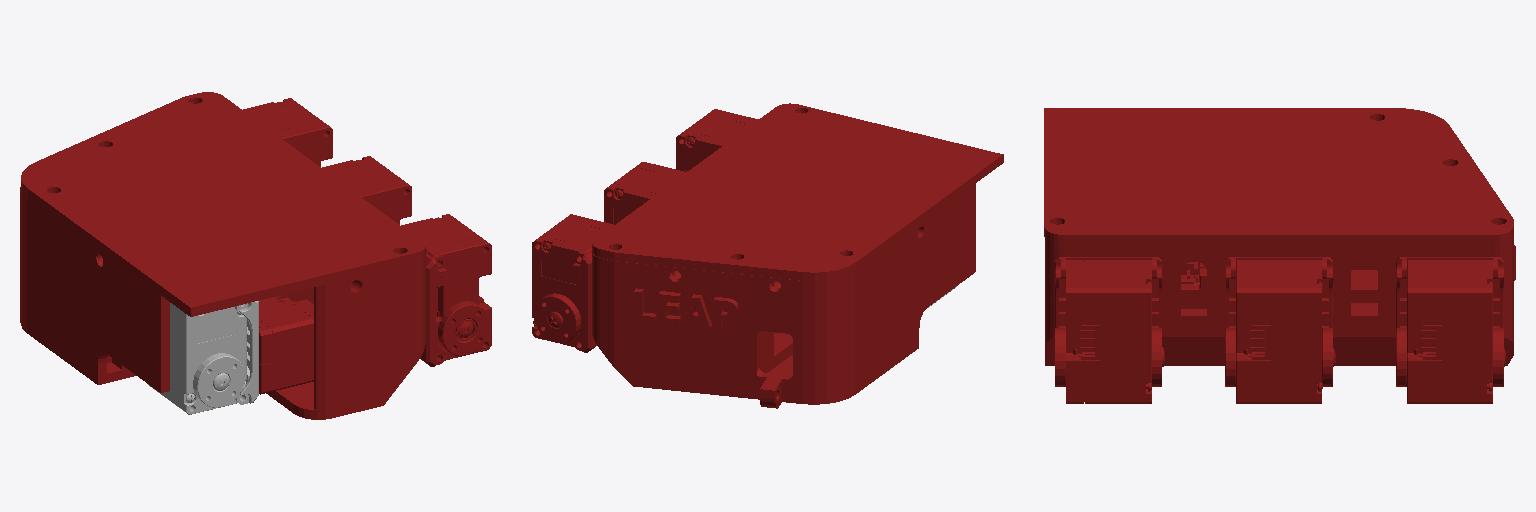
URDF robot description (onshape):
<robot name="onshape">
<link name="palm_lower_left">
<visual>
<origin xyz="-0.095574224938392599027 -0.11704001150113751972 0.02077960705260517571" rpy="1.57079632679489678 1.1239611599647231752e-28 3.1415926535897908956" />
<geometry>
<mesh filename="meshes_obj/palm_lower_left.obj"/>
</geometry>
<material name="palm_lower_left_material">
<color rgba="0.60392156862745094426 0.14901960784313725283 0.14901960784313725283 1.0"/>
</material>
</visual>
<collision>
<origin xyz="-0.095574224938392599027 -0.11704001150113751972 0.02077960705260517571" rpy="1.57079632679489678 1.1239611599647231752e-28 3.1415926535897908956" />
<geometry>
<mesh filename="meshes_obj/palm_lower_left.obj"/>
</geometry>
</collision>
<inertial>
<origin xyz="0 0 0" rpy="0 0 0"/>
<mass value="0.235" />
<inertia ixx="0.000351007" ixy="-0.000001393"  ixz="-0.000000694" iyy="0.000523205" iyz="-0.000003085" izz="0.000256996" />
</inertial>
</link>

<link name="mcp_joint">
<visual>
<origin xyz="0.008406902261174501248 0.0077662438597169980437 0.014657354985032899908" rpy="1.6375789613220999807e-15 -1.0045650589924324925e-30 -1.7121057196142940206e-44" />
<geometry>
<mesh filename="meshes_obj/mcp_joint.obj"/>
</geometry>
<material name="mcp_joint_material">
<color rgba="0.86666666666666669627 0.86666666666666669627 0.050980392156862744391 1.0"/>
</material>
</visual>
<collision>
<origin xyz="0.008406902261174501248 0.0077662438597169980437 0.014657354985032899908" rpy="1.6375789613220999807e-15 -1.0045650589924324925e-30 -1.7121057196142940206e-44" />
<geometry>
<mesh filename="meshes_obj/mcp_joint.obj"/>
</geometry>
</collision>
<inertial>
<origin xyz="0 0 0" rpy="0 0 0"/>
<mass value="0.044" />
<inertia ixx="0.000011499" ixy="0.000003049"  ixz="0.000000121" iyy="0.000007796" iyz="0.000000112" izz="0.000014759" />
</inertial>
</link>

<link name="pip">
<visual>
<origin xyz="0.0096433630922713314826 0.00029999999999999471534 0.00078403401041737472155" rpy="-1.570796326794896558 -1.570796326794896336 0" />
<geometry>
<mesh filename="meshes_obj/pip.obj"/>
</geometry>
<material name="pip_material">
<color rgba="0.74901960784313725839 0.74901960784313725839 0.74901960784313725839 1.0"/>
</material>
</visual>
<collision>
<origin xyz="0.0096433630922713314826 0.00029999999999999471534 0.00078403401041737472155" rpy="-1.570796326794896558 -1.570796326794896336 0" />
<geometry>
<mesh filename="meshes_obj/pip.obj"/>
</geometry>
</collision>
<inertial>
<origin xyz="0 0 0" rpy="0 0 0"/>
<mass value="0.032" />
<inertia ixx="0.000004798" ixy="0.000000012"  ixz="0.000000004" iyy="0.000002862" iyz="0.000000011" izz="0.000004234" />
</inertial>
</link>

<link name="dip">
<visual>
<origin xyz="0.021133352895225002849 -0.0084321191467048722812 0.0097850881620952234741" rpy="-3.141592653589793116 4.5075111242164408299e-32 4.4395481053923607589e-32" />
<geometry>
<mesh filename="meshes_obj/dip.obj"/>
</geometry>
<material name="dip_material">
<color rgba="0.86666666666666669627 0.86666666666666669627 0.050980392156862744391 1.0"/>
</material>
</visual>
<collision>
<origin xyz="0.021133352895225002849 -0.0084321191467048722812 0.0097850881620952234741" rpy="-3.141592653589793116 4.5075111242164408299e-32 4.4395481053923607589e-32" />
<geometry>
<mesh filename="meshes_obj/dip.obj"/>
</geometry>
</collision>
<inertial>
<origin xyz="0 0 0" rpy="0 0 0"/>
<mass value="0.037" />
<inertia ixx="0.000005542" ixy="-0.000000607"  ixz="-0.000000017" iyy="0.000005727" iyz="-0.000000023" izz="0.000006682" />
</inertial>
</link>

<link name="fingertip">
<visual>
<origin xyz="0.013286424108533503169 -0.00611423838654200167 0.014499999999999513278" rpy="3.141592653589793116 1.1993117970061734707e-33 4.4395481053923607589e-32" />
<geometry>
<mesh filename="meshes_obj/fingertip.obj"/>
</geometry>
<material name="fingertip_material">
<color rgba="0.86666666666666669627 0.86666666666666669627 0.050980392156862744391 1.0"/>
</material>
</visual>
<collision name="fingertip_collision_FROGGERCOL">
<origin xyz="0.013286424108533503169 -0.00611423838654200167 0.014499999999999513278" rpy="3.141592653589793116 1.1993117970061734707e-33 4.4395481053923607589e-32" />
<geometry>
<mesh filename="meshes_obj/fingertip.obj"/>
</geometry>
</collision>
<inertial>
<origin xyz="0 0 0" rpy="0 0 0"/>
<mass value="0.016" />
<inertia ixx="0.000003368" ixy="0.000000115"  ixz="0" iyy="0.000001556" iyz="0" izz="0.000002863" />
</inertial>
</link>

<joint name="0" type="revolute">
<origin xyz="-0.012200000000000005979 0.038100000000000001921 0.014499999999999985123" rpy="-1.57079632679489678 2.8029314871654157891e-15 1.570796326794896336" />
<parent link="mcp_joint" />
<child link="pip" />
<axis xyz="0 0 -1"/>
<limit effort="0.95" velocity="8.48" lower = "-1.047" upper = "1.047"/>
<joint_properties friction="0.0"/>
</joint>

<joint name="1" type="revolute">
<origin xyz="-0.082574224938392518092 -0.085740011501137525229 0.0078008885838987494094" rpy="1.5707963267948987784 1.570796326794896558 0" />
<parent link="palm_lower_left" />
<child link="mcp_joint" />
<axis xyz="0 0 -1"/>
<limit effort="0.95" velocity="8.48" lower = "-0.314" upper = "2.23"/>
<joint_properties friction="0.0"/>
</joint>

<joint name="2" type="revolute">
<origin xyz="0.014999999999999961281 0.014299999999999993272 -0.013000000000000025424" rpy="1.5707963267948958919 -1.570796326794896336 0" />
<parent link="pip" />
<child link="dip" />
<axis xyz="0 0 -1"/>
<limit effort="0.95" velocity="8.48" lower = "-0.506" upper = "1.885"/>  
<joint_properties friction="0.0"/>
</joint>

<joint name="3" type="revolute">
<origin xyz="-4.0880582469551840497e-09 -0.03610000421036734658 0.0002000000000000612399" rpy="4.5935029425113685044e-17 -2.8730071914463794583e-16 4.4395481053923607589e-32" />
<parent link="dip" />
<child link="fingertip" />
<axis xyz="0 0 -1"/>
<limit effort="0.95" velocity="8.48" lower = "-0.366" upper = "2.042"/>   
<joint_properties friction="0.0"/>
</joint>

<link name="mcp_joint_2">
<visual>
<origin xyz="0.008406902261174501248 0.0077662438597169841659 0.014657354985032906847" rpy="1.6375789613220997835e-15 -1.0045650589925207743e-30 -1.2404717968013979433e-44" />
<geometry>
<mesh filename="meshes_obj/mcp_joint.obj"/>
</geometry>
<material name="mcp_joint_material">
<color rgba="0.86666666666666669627 0.86666666666666669627 0.050980392156862744391 1.0"/>
</material>
</visual>
<collision>
<origin xyz="0.008406902261174501248 0.0077662438597169841659 0.014657354985032906847" rpy="1.6375789613220997835e-15 -1.0045650589925207743e-30 -1.2404717968013979433e-44" />
<geometry>
<mesh filename="meshes_obj/mcp_joint.obj"/>
</geometry>
</collision>
<inertial>
<origin xyz="0 0 0" rpy="0 0 0"/>
<mass value="0.044" />
<inertia ixx="0.000011499" ixy="0.000003049"  ixz="0.000000121" iyy="0.000007796" iyz="0.000000112" izz="0.000014759" />
</inertial>
</link>

<link name="pip_2">
<visual>
<origin xyz="0.0096433630922713314826 0.00029999999999998777644 0.00078403401041737472155" rpy="-1.570796326794896558 -1.570796326794896336 0" />
<geometry>
<mesh filename="meshes_obj/pip.obj"/>
</geometry>
<material name="pip_material">
<color rgba="0.74901960784313725839 0.74901960784313725839 0.74901960784313725839 1.0"/>
</material>
</visual>
<collision>
<origin xyz="0.0096433630922713314826 0.00029999999999998777644 0.00078403401041737472155" rpy="-1.570796326794896558 -1.570796326794896336 0" />
<geometry>
<mesh filename="meshes_obj/pip.obj"/>
</geometry>
</collision>
<inertial>
<origin xyz="0 0 0" rpy="0 0 0"/>
<mass value="0.032" />
<inertia ixx="0.000004798" ixy="0.000000012"  ixz="0.000000004" iyy="0.000002862" iyz="0.000000011" izz="0.000004234" />
</inertial>
</link>

<link name="dip_2">
<visual>
<origin xyz="0.021133352895225002849 -0.0084321191467048722812 0.0097850881620952373519" rpy="-3.141592653589793116 2.1146933785271955805e-32 1.4408183216511868558e-31" />
<geometry>
<mesh filename="meshes_obj/dip.obj"/>
</geometry>
<material name="dip_material">
<color rgba="0.86666666666666669627 0.86666666666666669627 0.050980392156862744391 1.0"/>
</material>
</visual>
<collision>
<origin xyz="0.021133352895225002849 -0.0084321191467048722812 0.0097850881620952373519" rpy="-3.141592653589793116 2.1146933785271955805e-32 1.4408183216511868558e-31" />
<geometry>
<mesh filename="meshes_obj/dip.obj"/>
</geometry>
</collision>
<inertial>
<origin xyz="0 0 0" rpy="0 0 0"/>
<mass value="0.037" />
<inertia ixx="0.000005542" ixy="-0.000000607"  ixz="-0.000000017" iyy="0.000005727" iyz="-0.000000023" izz="0.000006682" />
</inertial>
</link>

<link name="fingertip_2">
<visual>
<origin xyz="0.013286424108533503169 -0.0061142383865419982006 0.014499999999999492462" rpy="3.141592653589793116 -4.3179597882835943107e-33 1.4408183216511868558e-31" />
<geometry>
<mesh filename="meshes_obj/fingertip.obj"/>
</geometry>
<material name="fingertip_material">
<color rgba="0.86666666666666669627 0.86666666666666669627 0.050980392156862744391 1.0"/>
</material>
</visual>
<collision name="fingertip_2_collision_FROGGERCOL">
<origin xyz="0.013286424108533503169 -0.0061142383865419982006 0.014499999999999492462" rpy="3.141592653589793116 -4.3179597882835943107e-33 1.4408183216511868558e-31" />
<geometry>
<mesh filename="meshes_obj/fingertip.obj"/>
</geometry>
</collision>
<inertial>
<origin xyz="0 0 0" rpy="0 0 0"/>
<mass value="0.016" />
<inertia ixx="0.000003368" ixy="0.000000115"  ixz="0" iyy="0.000001556" iyz="0" izz="0.000002863" />
</inertial>
</link>

<joint name="4" type="revolute">
<origin xyz="-0.012200000000000002509 0.038099999999999988043 0.014499999999999999001" rpy="-1.570796326794896558 1.6094417208041279902e-15 1.5707963267948943376" />
<parent link="mcp_joint_2" />
<child link="pip_2" />
<axis xyz="0 0 -1"/>
<limit effort="0.95" velocity="8.48" lower = "-1.047" upper = "1.047"/>
<joint_properties friction="0.0"/>
</joint>

<joint name="5" type="revolute">
<origin xyz="-0.08257422493900856697 -0.040290011501137479311 0.007800888583679612201" rpy="1.5707963267948992225 1.570796326794896558 0" />
<parent link="palm_lower_left" />
<child link="mcp_joint_2" />
<axis xyz="0 0 -1"/>
<limit effort="0.95" velocity="8.48" lower = "-0.314" upper = "2.23"/>
<joint_properties friction="0.0"/>
</joint>

<joint name="6" type="revolute">
<origin xyz="0.01499999999999996475 0.014299999999999986333 -0.013000000000000025424" rpy="1.5707963267948958919 -1.570796326794896336 0" />
<parent link="pip_2" />
<child link="dip_2" />
<axis xyz="0 0 -1"/>
<limit effort="0.95" velocity="8.48" lower = "-0.506" upper = "1.885"/>  
<joint_properties friction="0.0"/>
</joint>


<joint name="7" type="revolute">
<origin xyz="1.0408340855860842566e-16 -0.036099999999999875244 0.00020000000000007511769" rpy="4.5935029425113654229e-17 -2.8730071914463794583e-16 1.4408183216511868558e-31" />
<parent link="dip_2" />
<child link="fingertip_2" />
<axis xyz="0 0 -1"/>
<limit effort="0.95" velocity="8.48" lower = "-0.366" upper = "2.042"/>   
<joint_properties friction="0.0"/>
</joint>

<link name="mcp_joint_3">
<visual>
<origin xyz="0.008406902261174501248 0.0077662438597169980437 0.014657354985032912051" rpy="1.6375789613220999807e-15 -1.0045650589924056927e-30 -1.6748666234615871922e-44" />
<geometry>
<mesh filename="meshes_obj/mcp_joint.obj"/>
</geometry>
<material name="mcp_joint_material">
<color rgba="0.86666666666666669627 0.86666666666666669627 0.050980392156862744391 1.0"/>
</material>
</visual>
<collision>
<origin xyz="0.008406902261174501248 0.0077662438597169980437 0.014657354985032912051" rpy="1.6375789613220999807e-15 -1.0045650589924056927e-30 -1.6748666234615871922e-44" />
<geometry>
<mesh filename="meshes_obj/mcp_joint.obj"/>
</geometry>
</collision>
<inertial>
<origin xyz="0 0 0" rpy="0 0 0"/>
<mass value="0.044" />
<inertia ixx="0.000011499" ixy="0.000003049"  ixz="0.000000121" iyy="0.000007796" iyz="0.000000112" izz="0.000014759" />
</inertial>
</link>

<link name="pip_3">
<visual>
<origin xyz="0.0096433630922713314826 0.00029999999999999124589 0.00078403401041737472155" rpy="-1.570796326794896558 -1.570796326794896336 0" />
<geometry>
<mesh filename="meshes_obj/pip.obj"/>
</geometry>
<material name="pip_material">
<color rgba="0.74901960784313725839 0.74901960784313725839 0.74901960784313725839 1.0"/>
</material>
</visual>
<collision>
<origin xyz="0.0096433630922713314826 0.00029999999999999124589 0.00078403401041737472155" rpy="-1.570796326794896558 -1.570796326794896336 0" />
<geometry>
<mesh filename="meshes_obj/pip.obj"/>
</geometry>
</collision>
<inertial>
<origin xyz="0 0 0" rpy="0 0 0"/>
<mass value="0.032" />
<inertia ixx="0.000004798" ixy="0.000000012"  ixz="0.000000004" iyy="0.000002862" iyz="0.000000011" izz="0.000004234" />
</inertial>
</link>

<link name="dip_3">
<visual>
<origin xyz="0.021133352895225006318 -0.0084321191467048688117 0.0097850881620952408213" rpy="-3.141592653589793116 -1.4095651113919093005e-33 1.5565411607615035382e-32" />
<geometry>
<mesh filename="meshes_obj/dip.obj"/>
</geometry>
<material name="dip_material">
<color rgba="0.86666666666666669627 0.86666666666666669627 0.050980392156862744391 1.0"/>
</material>
</visual>
<collision>
<origin xyz="0.021133352895225006318 -0.0084321191467048688117 0.0097850881620952408213" rpy="-3.141592653589793116 -1.4095651113919093005e-33 1.5565411607615035382e-32" />
<geometry>
<mesh filename="meshes_obj/dip.obj"/>
</geometry>
</collision>
<inertial>
<origin xyz="0 0 0" rpy="0 0 0"/>
<mass value="0.037" />
<inertia ixx="0.000005542" ixy="-0.000000607"  ixz="-0.000000017" iyy="0.000005727" iyz="-0.000000023" izz="0.000006682" />
</inertial>
</link>

<link name="fingertip_3">
<visual>
<origin xyz="0.013286424108533499699 -0.00611423838654200167 0.014499999999999495931" rpy="3.141592653589793116 8.6170716950575402125e-33 1.5565411607615035382e-32" />
<geometry>
<mesh filename="meshes_obj/fingertip.obj"/>
</geometry>
<material name="fingertip_material">
<color rgba="0.86666666666666669627 0.86666666666666669627 0.050980392156862744391 1.0"/>
</material>
</visual>
<collision name="fingertip_3_collision_FROGGERCOL">
<origin xyz="0.013286424108533499699 -0.00611423838654200167 0.014499999999999495931" rpy="3.141592653589793116 8.6170716950575402125e-33 1.5565411607615035382e-32" />
<geometry>
<mesh filename="meshes_obj/fingertip.obj"/>
</geometry>
</collision>
<inertial>
<origin xyz="0 0 0" rpy="0 0 0"/>
<mass value="0.016" />
<inertia ixx="0.000003368" ixy="0.000000115"  ixz="0" iyy="0.000001556" iyz="0" izz="0.000002863" />
</inertial>
</link>

<joint name="8" type="revolute">
<origin xyz="-0.012200000000000002509 0.038100000000000001921 0.01450000000000000247" rpy="-1.57079632679489678 2.8029314871654240721e-15 1.570796326794896336" />
<parent link="mcp_joint_3" />
<child link="pip_3" />
<axis xyz="0 0 -1"/>
<limit effort="0.95" velocity="8.48" lower = "-1.047" upper = "1.047"/>
<joint_properties friction="0.0"/>
</joint>

<joint name="9" type="revolute">
<origin xyz="-0.082574224938392323803 0.0051599884988625839555 0.0078008885838987598177" rpy="1.5707963267948987784 1.570796326794896558 0" />
<parent link="palm_lower_left" />
<child link="mcp_joint_3" />
<axis xyz="0 0 -1"/>
<limit effort="0.95" velocity="8.48" lower = "-0.314" upper = "2.23"/>
<joint_properties friction="0.0"/>
</joint>

<joint name="10" type="revolute">
<origin xyz="0.01499999999999996822 0.014299999999999989803 -0.013000000000000025424" rpy="1.5707963267948958919 -1.570796326794896336 0" />
<parent link="pip_3" />
<child link="dip_3" />
<axis xyz="0 0 -1"/>
<limit effort="0.95" velocity="8.48" lower = "-0.506" upper = "1.885"/>  
<joint_properties friction="0.0"/>
</joint>

<joint name="11" type="revolute">
<origin xyz="1.0234868508263161857e-16 -0.036099999999999868305 0.00020000000000007858714" rpy="4.5935029425113685044e-17 -2.8730071914463799514e-16 1.5565411607615035382e-32" />
<parent link="dip_3" />
<child link="fingertip_3" />
<axis xyz="0 0 -1"/>
<limit effort="0.95" velocity="8.48" lower = "-0.366" upper = "2.042"/>   
<joint_properties friction="0.0"/>
</joint>

<link name="thumb_left_temp_base">
<visual>
<origin xyz="0.043932212010113096123 0.0068107072931437306895 0.021460907869434775463" rpy="1.570796326794896558 -7.3390819752428127848e-33 -2.4651903288114908395e-32" />
<geometry>
<mesh filename="meshes_obj/thumb_left_temp_base.obj"/>
</geometry>
<material name="thumb_left_temp_base_material">
<color rgba="0.74901960784313725839 0.74901960784313725839 0.74901960784313725839 1.0"/>
</material>
</visual>
<collision>
<origin xyz="0.043932212010113096123 0.0068107072931437306895 0.021460907869434775463" rpy="1.570796326794896558 -7.3390819752428127848e-33 -2.4651903288114908395e-32" />
<geometry>
<mesh filename="meshes_obj/thumb_left_temp_base.obj"/>
</geometry>
</collision>
<inertial>
<origin xyz="0 0 0" rpy="0 0 0"/>
<mass value="0.032" />
<inertia ixx="0.000004798" ixy="0.000000012"  ixz="0.000000004" iyy="0.000002862" iyz="0.000000011" izz="0.000004234" />
</inertial>
</link>

<link name="thumb_pip">
<visual>
<origin xyz="0.011961920770611200737 -5.3169274538689137444e-16 -0.015852648956664189273" rpy="1.570796326794896558 1.6544612350564779759e-32 0" />
<geometry>
<mesh filename="meshes_obj/thumb_pip.obj"/>
</geometry>
<material name="thumb_pip_material">
<color rgba="0.86666666666666669627 0.86666666666666669627 0.050980392156862744391 1.0"/>
</material>
</visual>
<collision name="thumb_pip_collision_FROGGERCOL">
<origin xyz="0.011961920770611200737 -5.3169274538689137444e-16 -0.015852648956664189273" rpy="1.570796326794896558 1.6544612350564779759e-32 0" />
<geometry>
<mesh filename="meshes_obj/thumb_pip.obj"/>
</geometry>
</collision>
<inertial>
<origin xyz="0 0 0" rpy="0 0 0"/>
<mass value="0.003" />
<inertia ixx="0.000000593" ixy="0"  ixz="0" iyy="0.000000549" iyz="0" izz="0.000000224" />
</inertial>
</link>

<link name="thumb_dip">
<visual>
<origin xyz="0.043968715707239161561 0.057952952973709212503 -0.0086286764493694757122" rpy="1.9428902930940096476e-16 3.2751579226442204717e-15 -2.172448977268026949e-31" />
<geometry>
<mesh filename="meshes_obj/thumb_dip.obj"/>
</geometry>
<material name="thumb_dip_material">
<color rgba="0.86666666666666669627 0.86666666666666669627 0.050980392156862744391 1.0"/>
</material>
</visual>
<collision>
<origin xyz="0.043968715707239161561 0.057952952973709212503 -0.0086286764493694757122" rpy="1.9428902930940096476e-16 3.2751579226442204717e-15 -2.172448977268026949e-31" />
<geometry>
<mesh filename="meshes_obj/thumb_dip.obj"/>
</geometry>
</collision>
<inertial>
<origin xyz="0 0 0" rpy="0 0 0"/>
<mass value="0.038" />
<inertia ixx="0.000008474" ixy="0.000000241"  ixz="0.000000026" iyy="0.000003841" iyz="0.000000025" izz="0.000007679" />
</inertial>
</link>

<link name="thumb_fingertip">
<visual>
<origin xyz="0.062559538462667402259 0.078459682911396960714 0.048992911807332208129" rpy="2.586996940753466404e-33 -3.3306690738754701143e-16 4.6050499879454267902e-33" />
<geometry>
<mesh filename="meshes_obj/thumb_fingertip.obj"/>
</geometry>
<material name="thumb_fingertip_material">
<color rgba="0.60392156862745094426 0.14901960784313725283 0.14901960784313725283 1.0"/>
</material>
</visual>
<collision>
<origin xyz="0.062559538462667402259 0.078459682911396960714 0.048992911807332208129" rpy="2.586996940753466404e-33 -3.3306690738754701143e-16 4.6050499879454267902e-33" />
<geometry>
<mesh filename="meshes_obj/thumb_fingertip.obj"/>
</geometry>
</collision>
<inertial>
<origin xyz="0 0 0" rpy="0 0 0"/>
<mass value="0.049" />
<inertia ixx="0.000020372" ixy="-0.000000489"  ixz="-0.00000003" iyy="0.000004336" iyz="-0.000000097" izz="0.000019845" />
</inertial>
</link>

<joint name="12" type="revolute">
<origin xyz="-1.0148132334464321502e-16 -0.014100000000000126321 -0.012999999999999956035" rpy="-1.570796326794896336 -1.570796326794896336 0" />
<parent link="thumb_left_temp_base" />
<child link="thumb_pip" />
<axis xyz="0 0 -1"/>
<limit effort="0.95" velocity="8.48" lower = "-2.094" upper = "0.349"/> 
<joint_properties friction="0.0"/>
</joint>

<joint name="13" type="revolute">
<origin xyz="-0.14487422493839263726 -0.090040011501137440231 0.004900888583899039308" rpy="3.5629789726327258012e-15 1.5707963267948961139 0" />
<parent link="palm_lower_left" />
<child link="thumb_left_temp_base" />
<axis xyz="0 0 -1"/>
<limit effort="0.95" velocity="8.48" lower = "-2.443" upper = "0.47"/> 
<joint_properties friction="0.0"/>
</joint>

<joint name="14" type="revolute">
<origin xyz="0 0.014499999999999967776 -0.017000000000000042855" rpy="-1.570796326794896558 -1.5671206742950610653e-15 -5.6898930012051145053e-16" />
<parent link="thumb_pip" />
<child link="thumb_dip" />
<axis xyz="0 0 -1"/>
<limit effort="0.95" velocity="8.48" lower = "-1.20" upper = "1.90"/> 
<joint_properties friction="0.0"/>
</joint>

<joint name="15" type="revolute">
<origin xyz="-1.1102230246251565404e-16 0.046599999999999683342 0.00020000000000065451533" rpy="-3.1092019091748562186e-17 -4.9644253794601335075e-16 -3.1415926535897846783" />
<parent link="thumb_dip" />
<child link="thumb_fingertip" />
<axis xyz="0 0 -1"/>
<limit effort="0.95" velocity="8.48" lower = "-1.34" upper = "1.88"/> 
<joint_properties friction="0.0"/>
</joint>

<!-- Sampling -->
<link name="palm_lower_left_FROGGERSAMPLE" />

<joint name="palm_sample_joint" type="fixed">
  <parent link="palm_lower_left"/>
  <child link="palm_lower_left_FROGGERSAMPLE"/>
  <origin xyz="-0.1 -0.055 0.0" rpy="1.57079632679489678 1.1239611599647231752e-28 3.1415926535897908956"/>
</joint>

</robot>

--- Render facts (derived) ---
3 views of the same robot in one strip: view 1: azimuth 30°, elevation 25°; view 2: azimuth 150°, elevation 25°; view 3: azimuth 270°, elevation 25° (orthographic).
Model onshape with 18 links and 17 joints (16 revolute, 1 fixed), rooted at palm_lower_left, posed all joints at 0.
Links seen in each view (by area): view 1: palm_lower_left, thumb_left_temp_base; view 2: palm_lower_left; view 3: palm_lower_left.
Boxes of the visible links, <box> form: palm_lower_left: <box>20,92,491,419</box>; thumb_left_temp_base: <box>148,301,258,414</box>; palm_lower_left: <box>532,103,1003,408</box>; palm_lower_left: <box>1044,108,1515,403</box>.
Bounding box of the posed robot: 0.103 × 0.1255 × 0.046 m (x, y, z).
2 mesh visuals loaded from 9 distinct referenced files (2 OBJ); not drawn: 15 (reference not matched to a file when rendering).